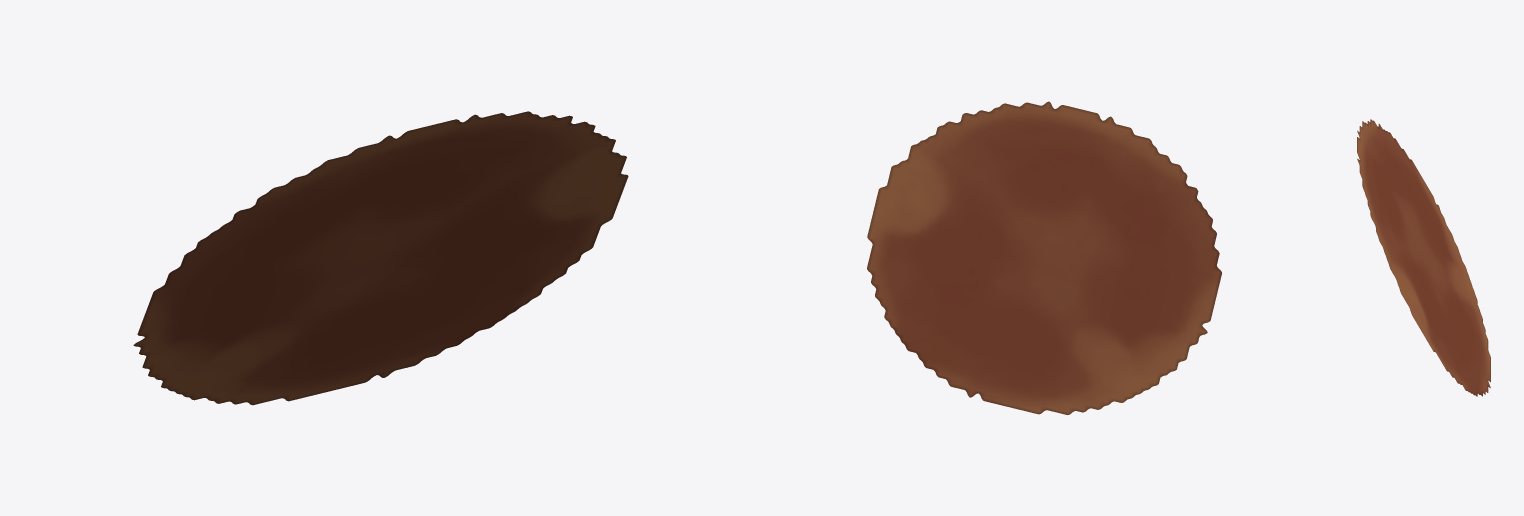
Rendered from billboards.glb.
The picture shows the model from 3 angles, left to right: view 1: azimuth 30°, elevation 25°; view 2: azimuth 150°, elevation 25°; view 3: azimuth 270°, elevation 25°; orthographic projection. The views are drawn at different scales.
Visible parts, largest first — view 1: rsrc.world.tileset.clockworks_shock.billboards-Submesh[0]; view 2: rsrc.world.tileset.clockworks_shock.billboards-Submesh[0]; view 3: rsrc.world.tileset.clockworks_shock.billboards-Submesh[0].
Boxes of the visible parts, x1,y1,x2,y2 form: rsrc.world.tileset.clockworks_shock.billboards-Submesh[0]: (133,111,628,405); rsrc.world.tileset.clockworks_shock.billboards-Submesh[0]: (867,101,1221,414); rsrc.world.tileset.clockworks_shock.billboards-Submesh[0]: (1357,119,1490,396).
Size of the model in its own units: 0.2927 by 0.1995 by 0.1067.
Materials: 1 (1 with a texture image).
